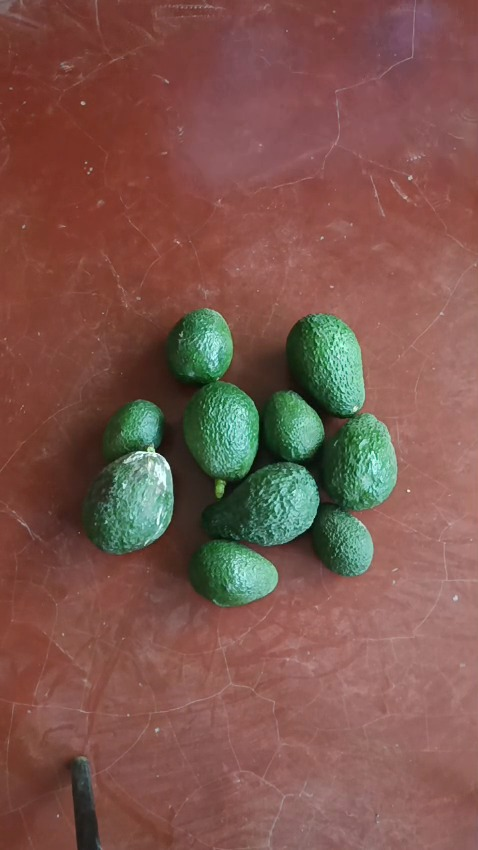Primera: (81, 449, 175, 553), (202, 463, 319, 546), (285, 314, 365, 417), (182, 380, 261, 484), (320, 412, 398, 509)
Segunda: (187, 540, 278, 606), (165, 308, 233, 383)
Tercera: (260, 390, 324, 463), (310, 503, 374, 576), (102, 399, 167, 462)
